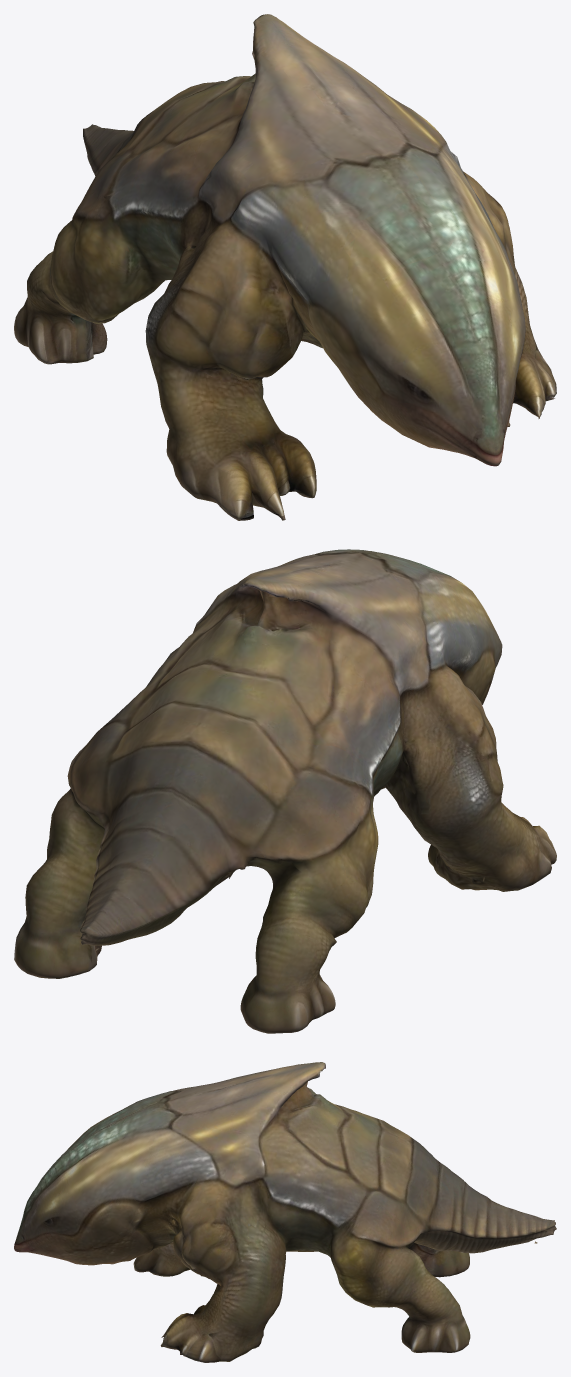
File: bulette.glb
3 views of the same model, one above another, from view 1: azimuth 30°, elevation 25°; view 2: azimuth 150°, elevation 25°; view 3: azimuth 270°, elevation 25° (orthographic). The views are drawn at different scales.
Size of the model in its own units: 1.09 by 0.9753 by 1.97.
Materials: 1 (1 with a texture image).
